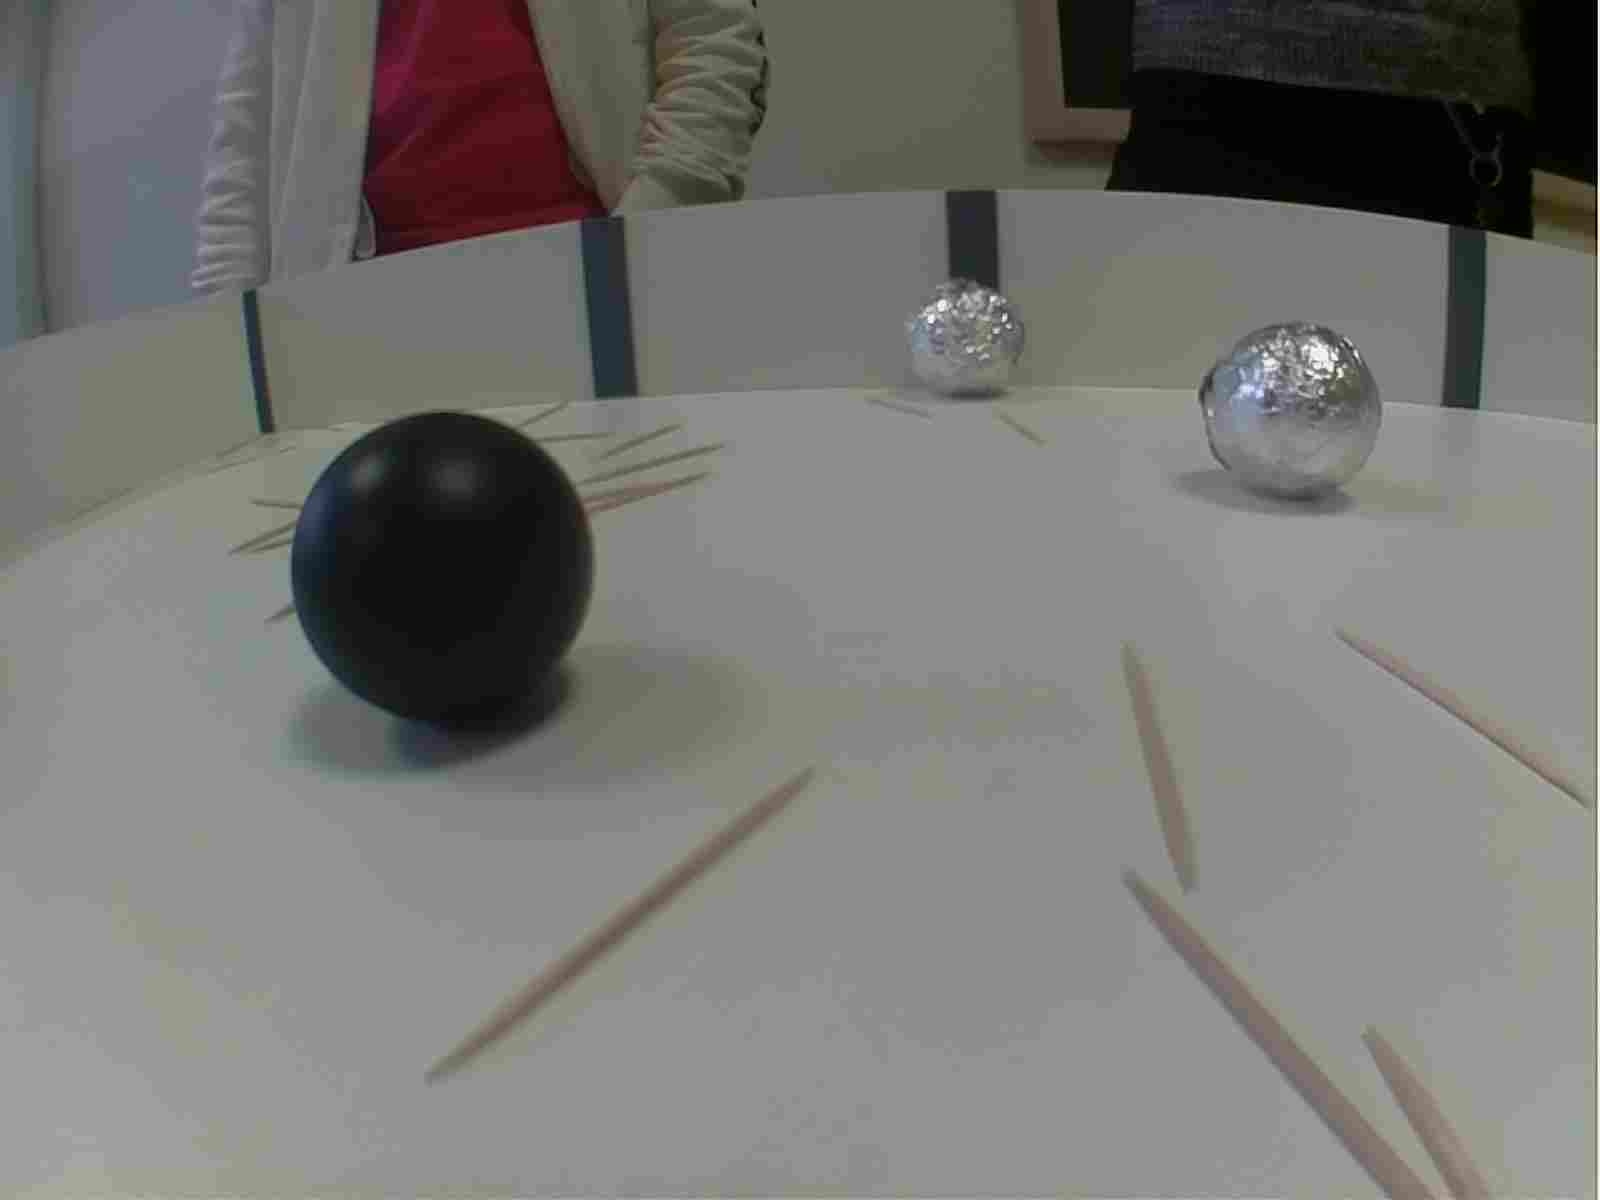bianca: (1209, 313, 1390, 509), (896, 277, 1029, 398)
nera: (294, 411, 596, 734)
